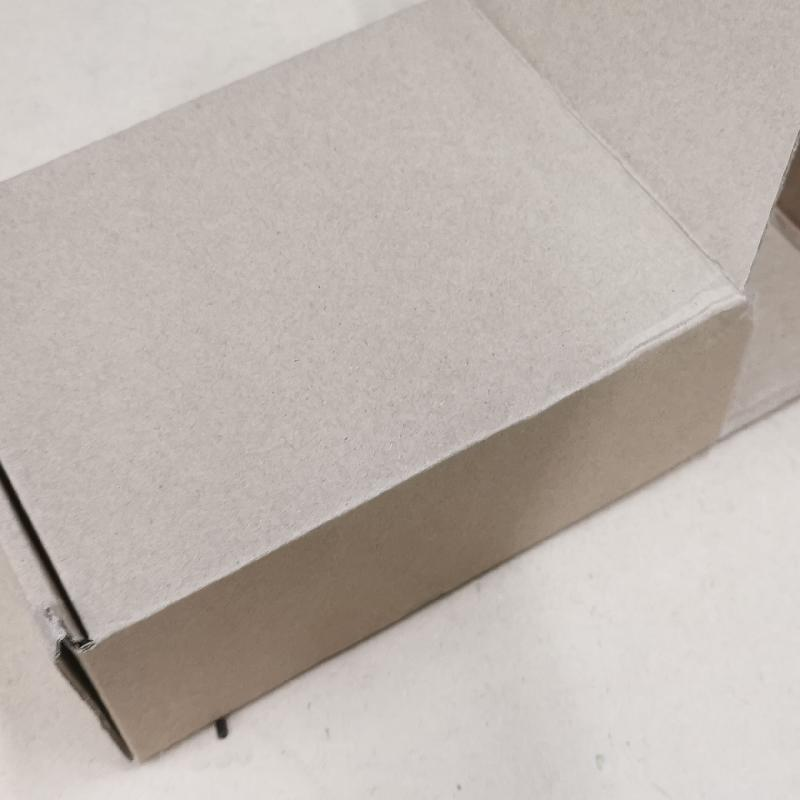boxes: (8, 32, 799, 762)
